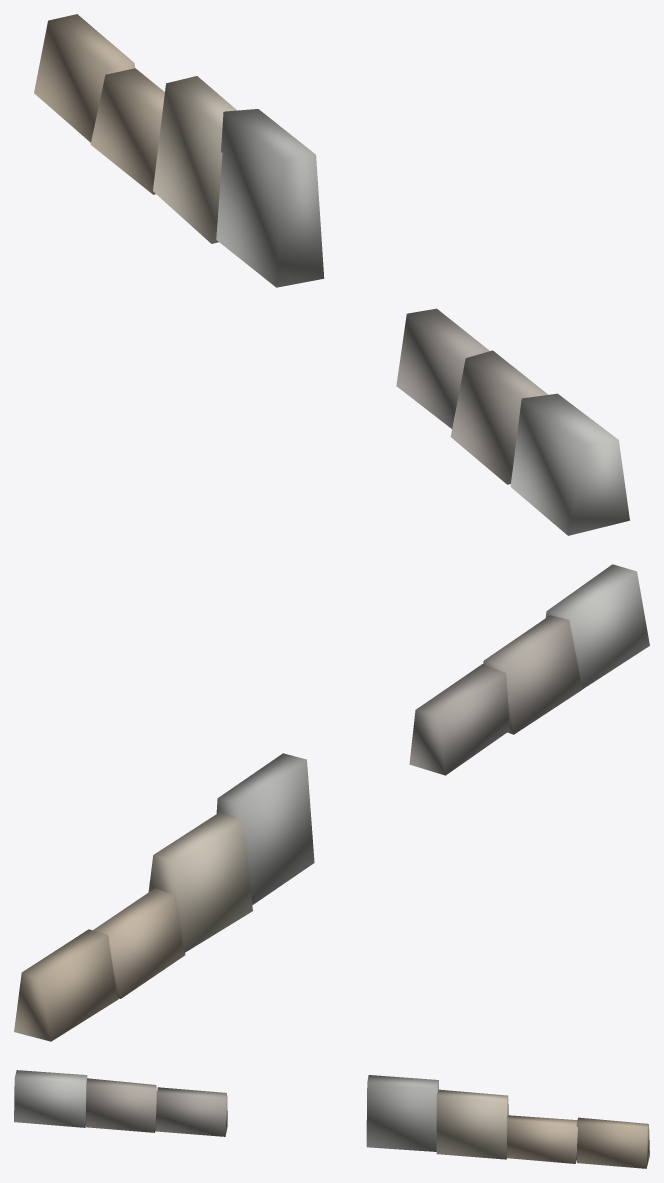
Rendered from farm_7_18_far.glb.
The picture shows the model from 3 angles, top to bottom: view 1: azimuth 30°, elevation 25°; view 2: azimuth 150°, elevation 25°; view 3: azimuth 270°, elevation 25°; orthographic projection. The views are drawn at different scales.
Visible parts, largest first — view 1: geometry_0; view 2: geometry_0; view 3: geometry_0.
Boxes of the visible parts, left/top/right/bottom form: geometry_0: left=34, top=14, right=629, bottom=535; geometry_0: left=14, top=564, right=649, bottom=1041; geometry_0: left=14, top=1070, right=649, bottom=1168.
Size of the model in its own units: 1.87 by 1.8 by 13.96.
